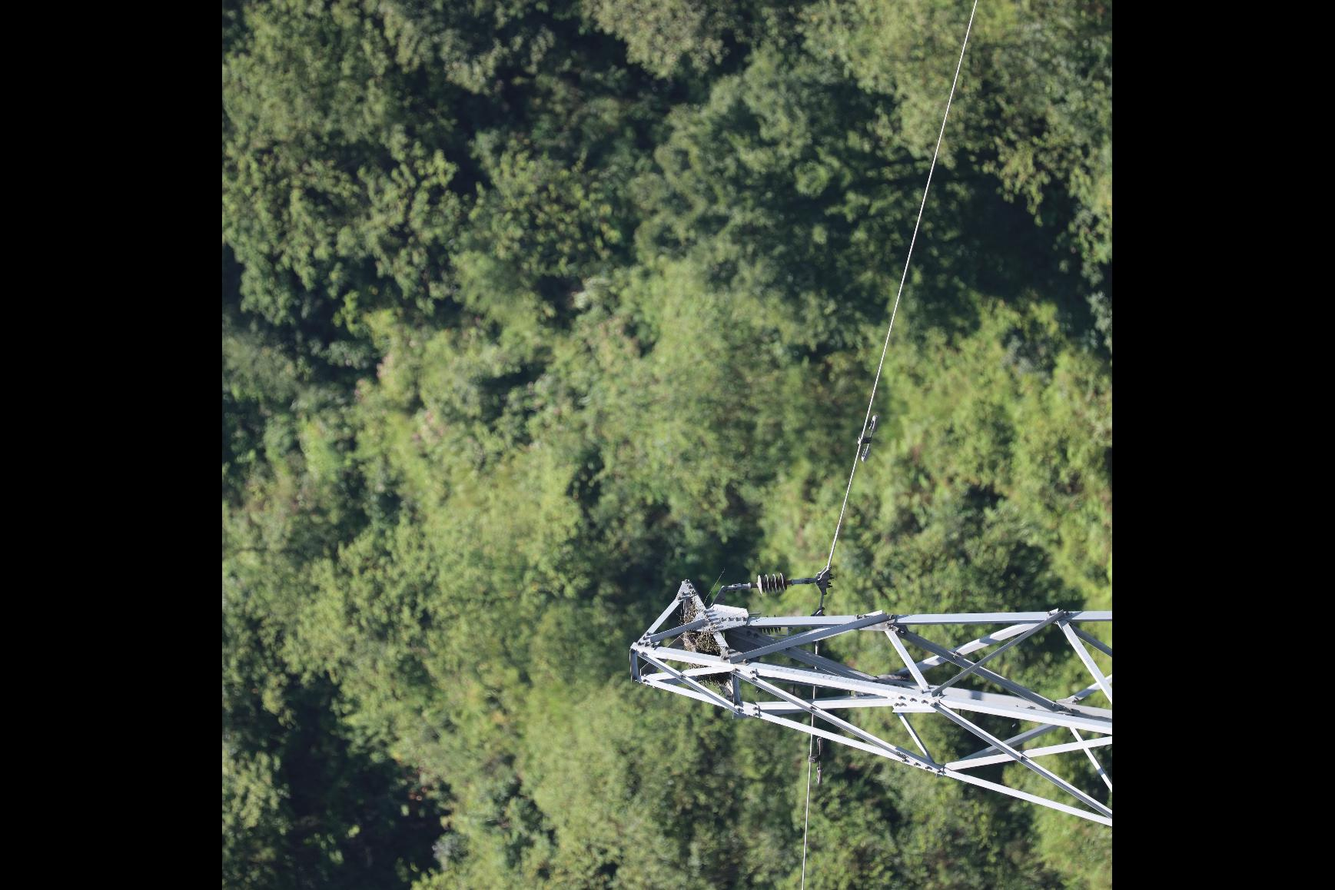damper: (856, 412, 882, 465), (806, 736, 826, 788)
nest: (679, 600, 722, 655)
